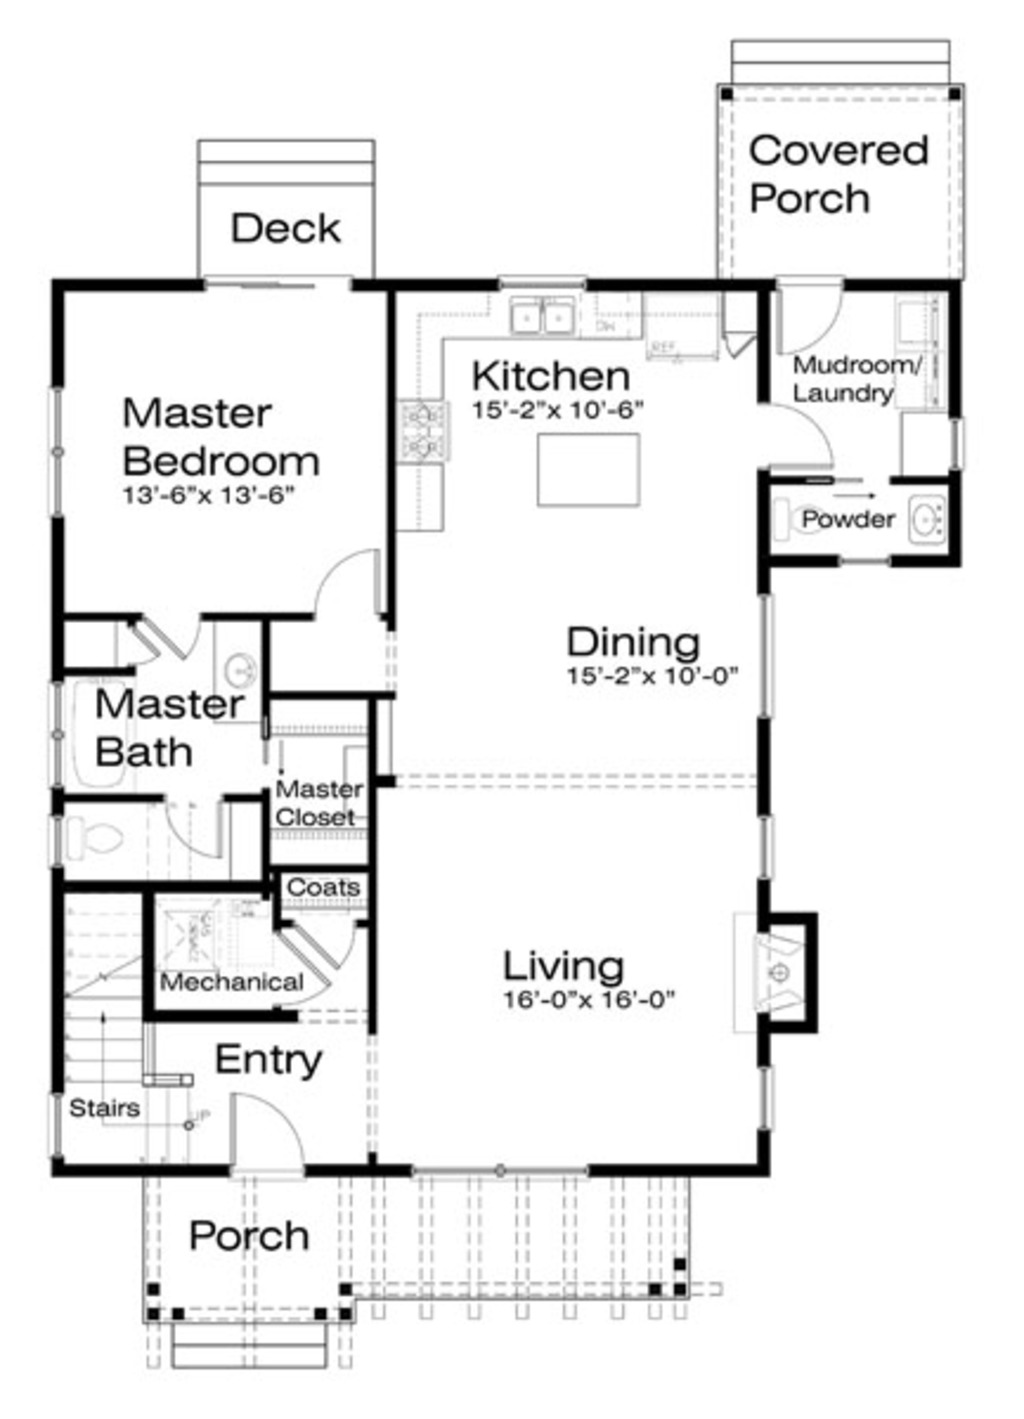door: (209, 1084, 338, 1202), (767, 273, 847, 359), (265, 936, 338, 1019), (308, 553, 381, 630), (763, 396, 836, 473), (163, 790, 229, 870), (138, 606, 214, 673), (283, 910, 362, 973)
large_sink: (54, 802, 134, 868), (769, 488, 843, 559)
small_sink: (220, 617, 276, 728), (898, 486, 953, 559)
stairs: (63, 897, 192, 1166)
tub: (36, 678, 143, 804)
twin_sink: (509, 293, 581, 346)
